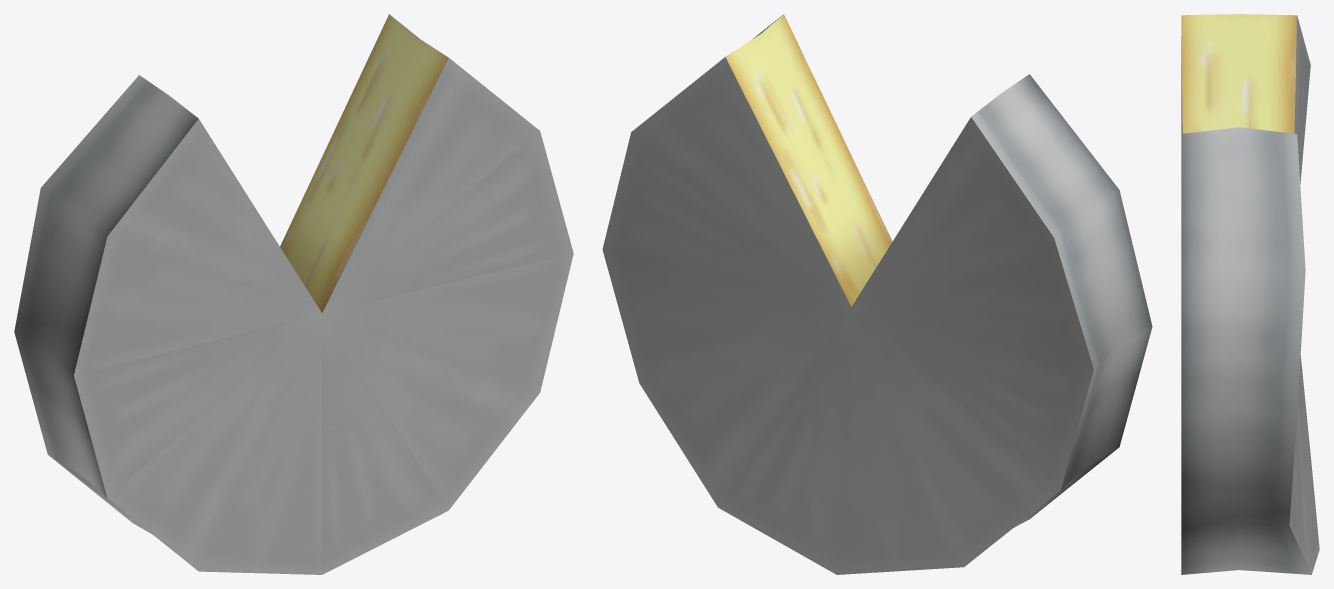
The model's file is Cheese_01.fbx.
3 views of the same model, side by side, from view 1: azimuth 30°, elevation 25°; view 2: azimuth 150°, elevation 25°; view 3: azimuth 270°, elevation 25° (orthographic). The views are drawn at different scales.
Visible parts, largest first — view 1: Cheese_01; view 2: Cheese_01; view 3: Cheese_01.
Part boxes in pixels (x1,y1,x2,y2): Cheese_01: [14, 14, 573, 574]; Cheese_01: [602, 14, 1152, 574]; Cheese_01: [1181, 14, 1319, 574].
Bounding box in the file's own units: 196 × 184 × 48.24.
